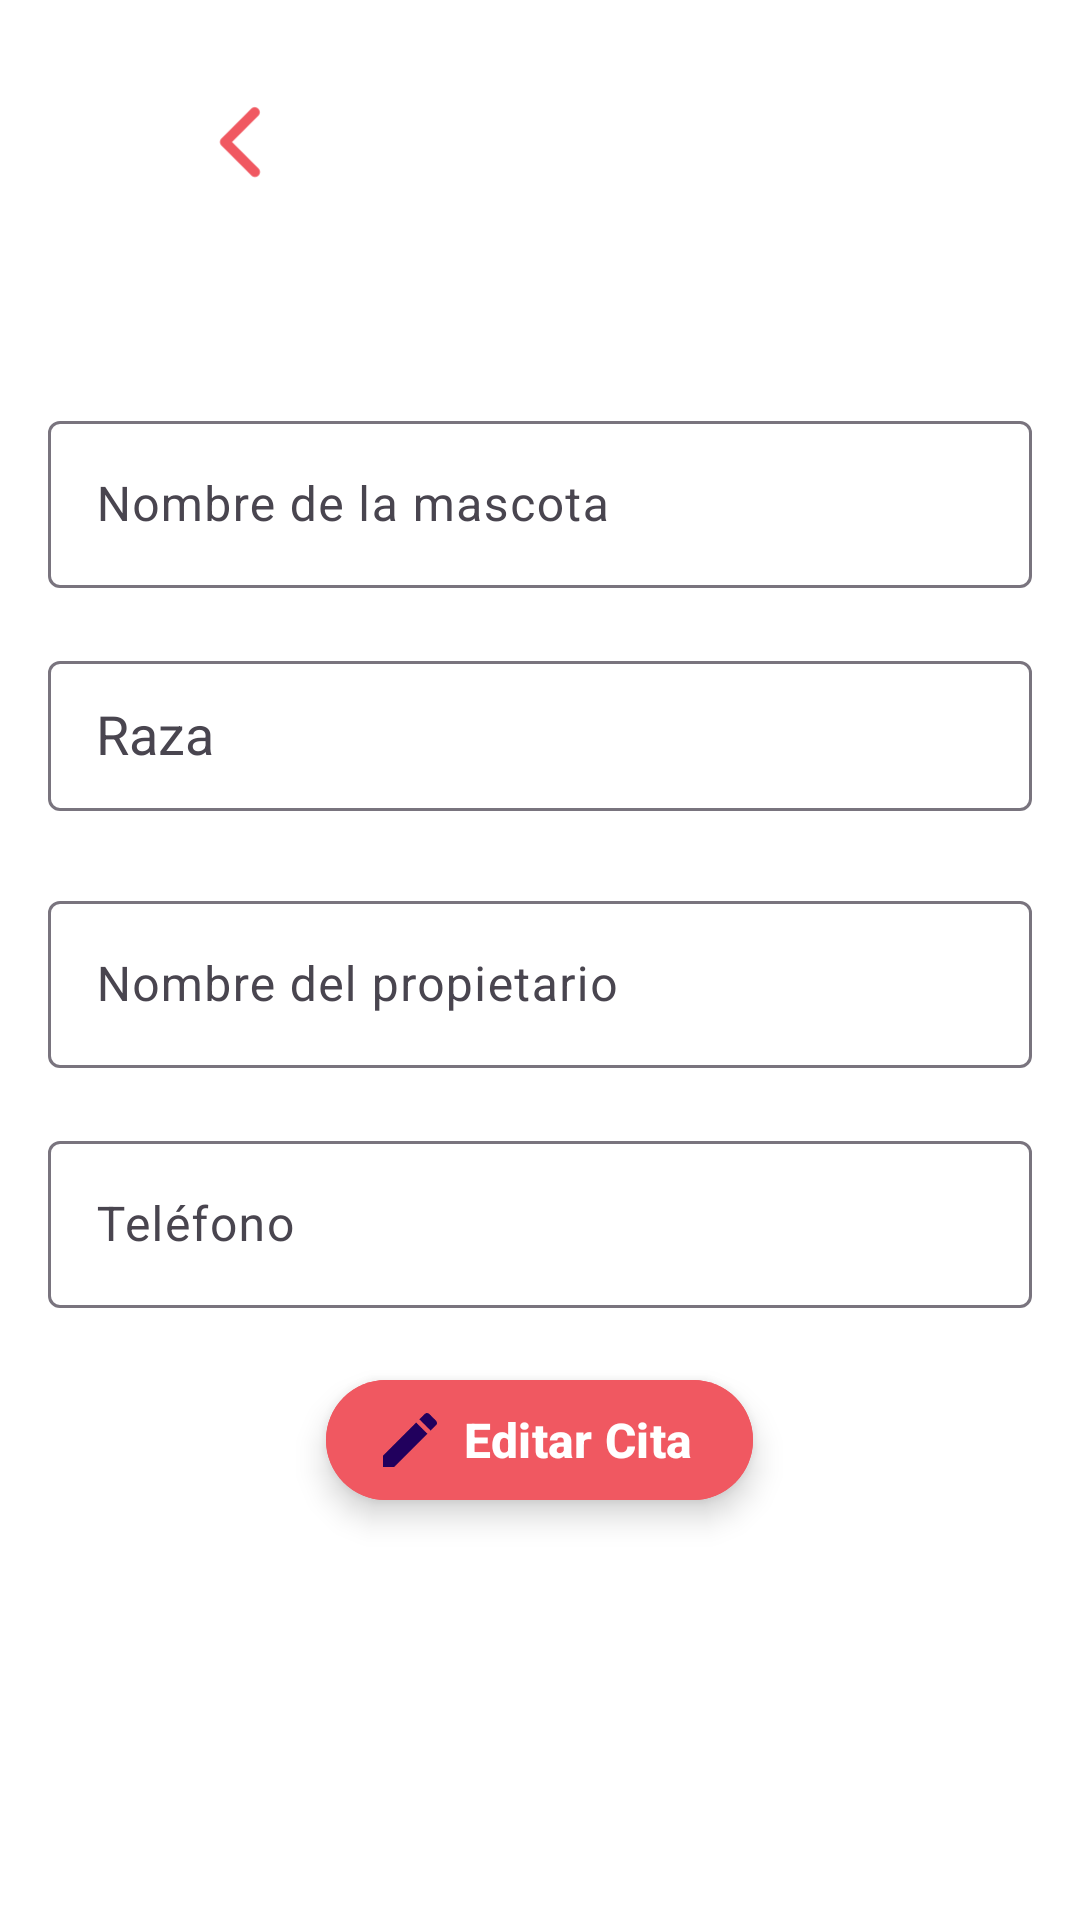

Icon bounding boxes for this 1080w x 1920h phone screenshot, format (x1, y1, x2, y2):
Back: (219, 107, 261, 178)
